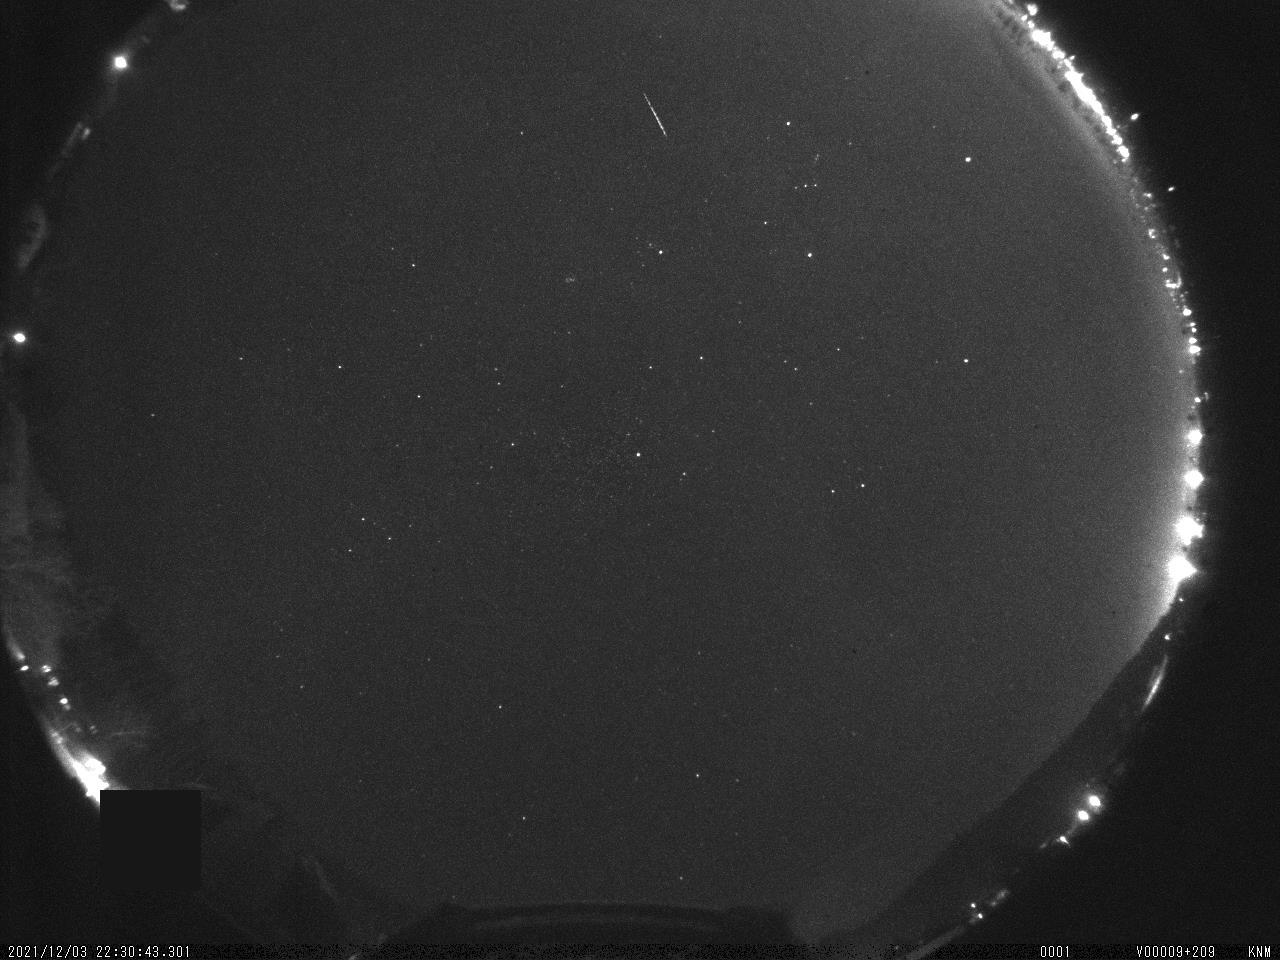meteor: (634, 87, 680, 152)
